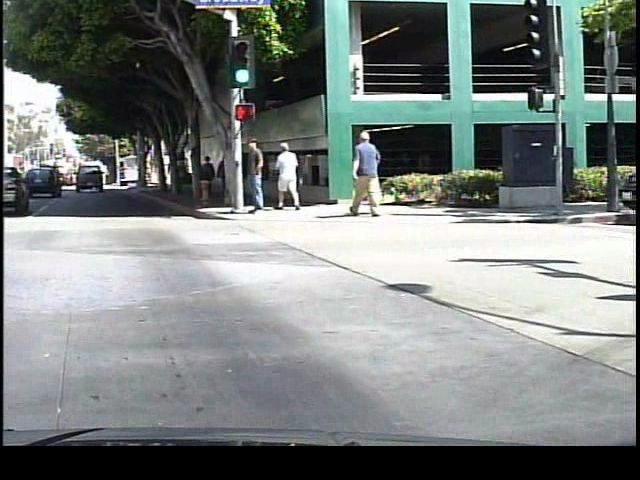person: (345, 126, 386, 217), (240, 134, 269, 221), (273, 140, 304, 213), (200, 152, 216, 200)
